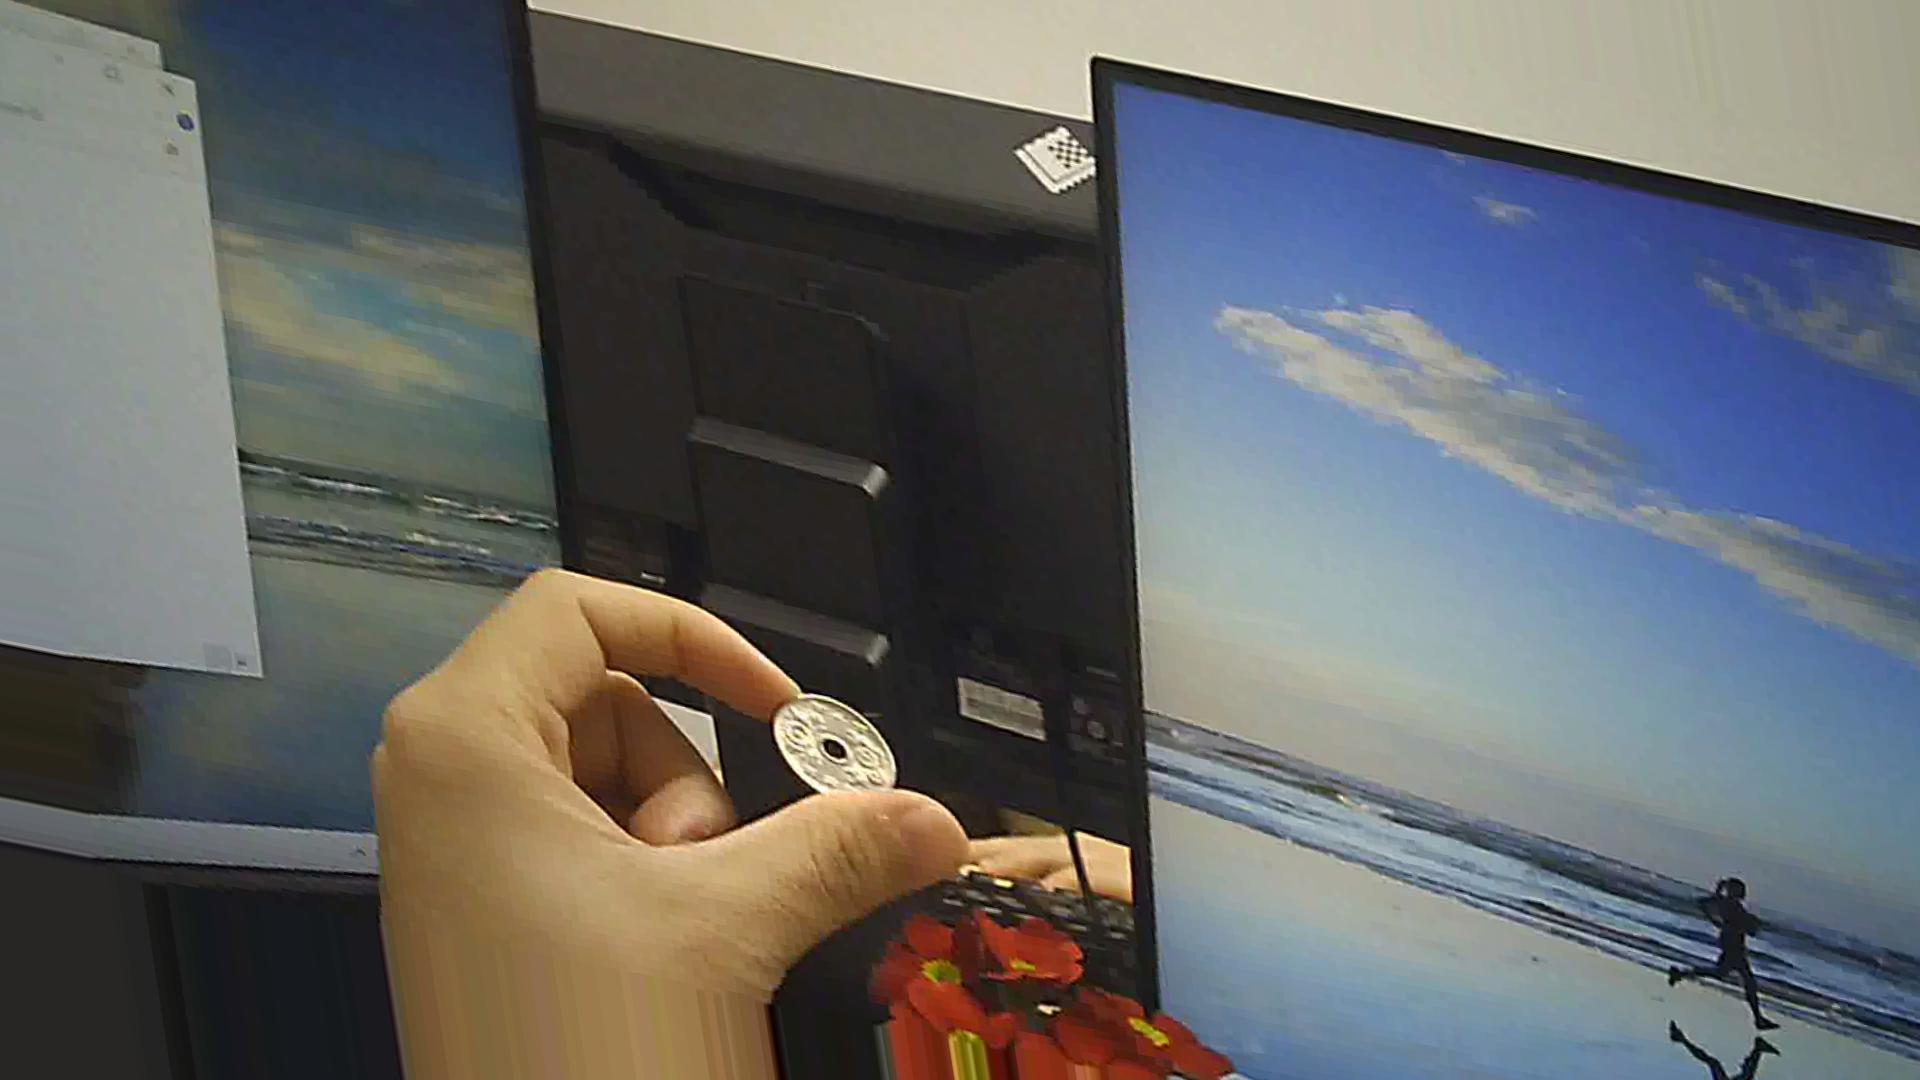50 Yen: (760, 673, 893, 810)
